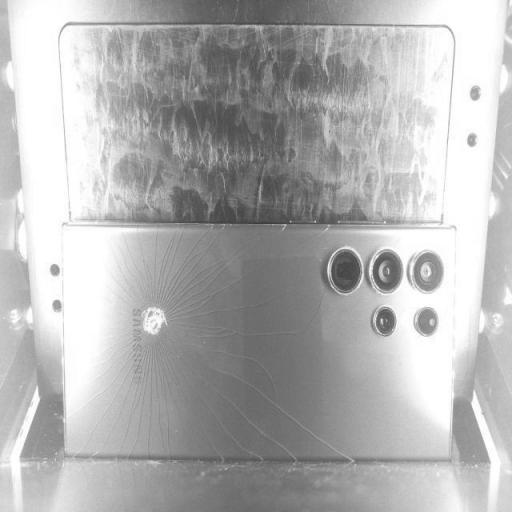phone: (55, 209, 471, 470)
